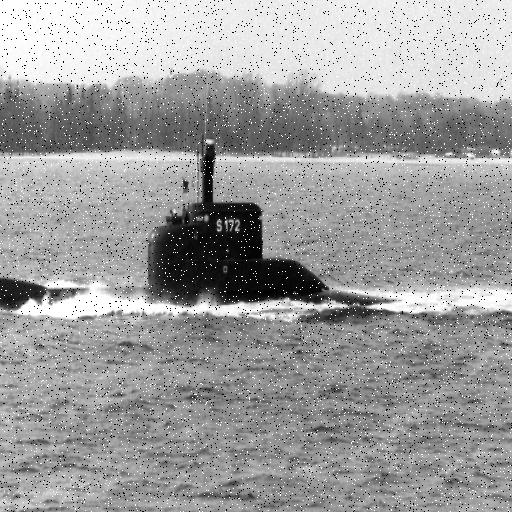submarine: (1, 139, 405, 305)
